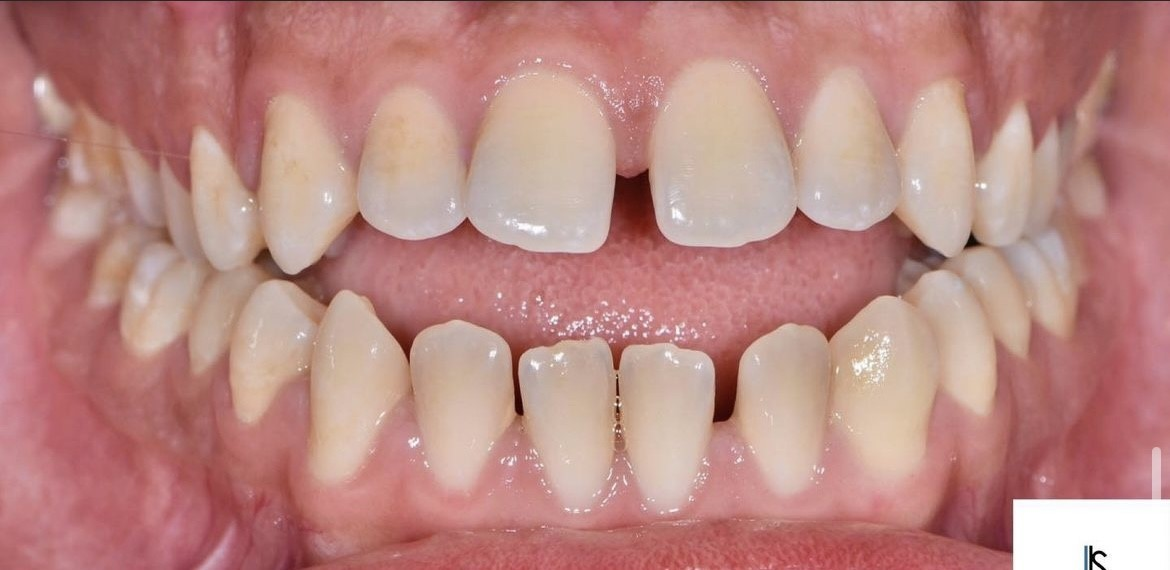LL1BC_mdecay: (926, 264, 995, 412)
LL1M_mdecay: (1012, 244, 1077, 337)
LL2BC_mdecay: (965, 249, 1028, 352)
LLCI_healthy: (620, 344, 715, 510)
LLC_healthy: (835, 297, 935, 484)
LLLI_healthy: (739, 323, 830, 486)
LR1BC_healthy: (228, 278, 309, 417)
LR1M_mdecay: (121, 245, 189, 352)
LR2BC_healthy: (192, 275, 234, 379)
LRCI_healthy: (519, 340, 615, 505)
LRC_healthy: (313, 292, 403, 468)
LRLI_healthy: (409, 319, 511, 488)
UL1BC_healthy: (977, 107, 1030, 245)
UL2BC_healthy: (1033, 122, 1058, 234)
ULCI_healthy: (650, 57, 795, 246)
ULC_healthy: (901, 88, 974, 256)
ULLI_healthy: (797, 71, 900, 228)
UR1BC_healthy: (190, 133, 258, 268)
UR1M_healthy: (119, 141, 157, 224)
UR2BC_healthy: (155, 163, 191, 255)
URCI_healthy: (466, 77, 614, 252)
URC_healthy: (259, 111, 355, 272)
URLI_healthy: (357, 97, 467, 243)
